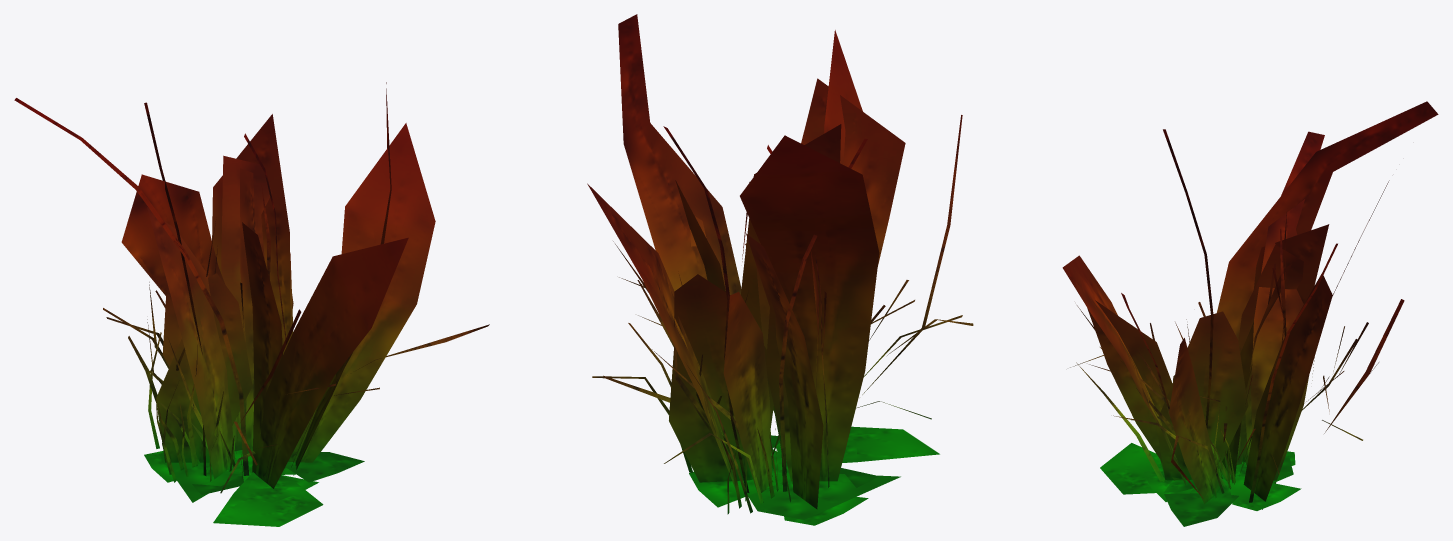
Rendered from Thatching Grass_LOD1_Var2_uddmcgbia.glb.
3 views of the same model, side by side, from view 1: azimuth 30°, elevation 25°; view 2: azimuth 150°, elevation 25°; view 3: azimuth 270°, elevation 25° (orthographic). The views are drawn at different scales.
Parts seen in each view (by area): view 1: _855f_Var2_LOD1; view 2: _855f_Var2_LOD1; view 3: _855f_Var2_LOD1.
Boxes of the visible parts, bbox=[...] form: _855f_Var2_LOD1: bbox=[14, 82, 489, 526]; _855f_Var2_LOD1: bbox=[587, 14, 973, 525]; _855f_Var2_LOD1: bbox=[1062, 101, 1438, 526].
Size of the model in its own units: 0.4742 by 0.425 by 0.4074.
Materials: 1 (1 with a texture image).
